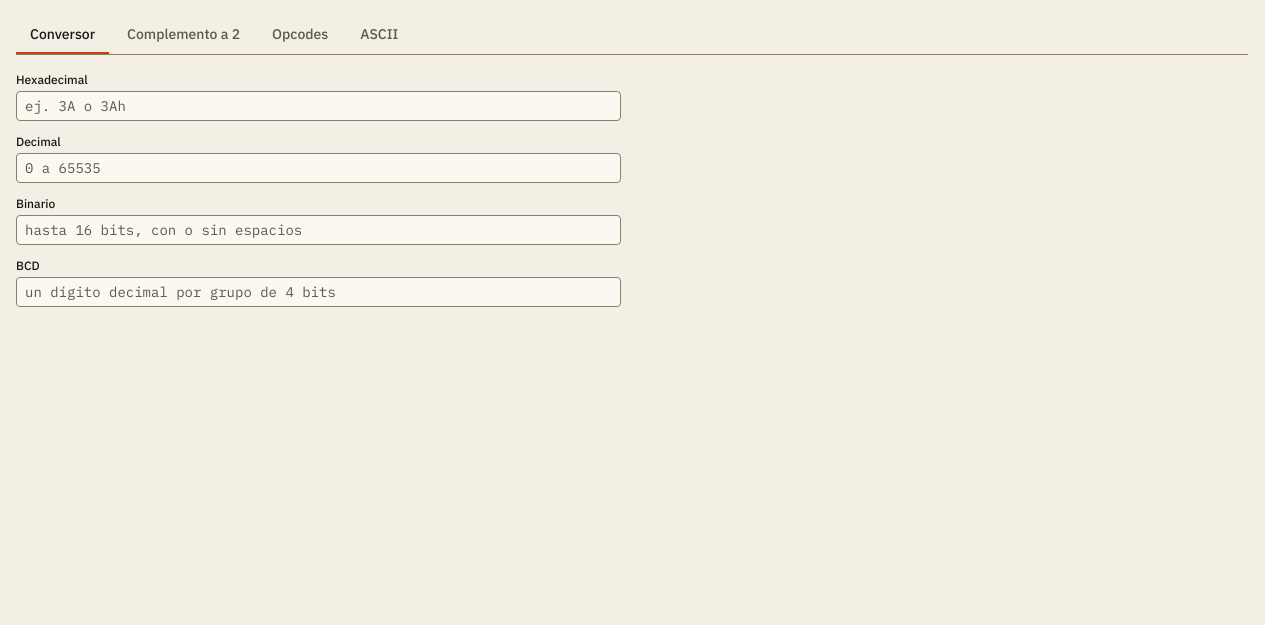
Test: ASCII › caracteres, controles y etiqueta fuera de la cátedra
Click the tab "ASCII" at (379, 35), box [346, 16, 412, 54]
(page scrolled)
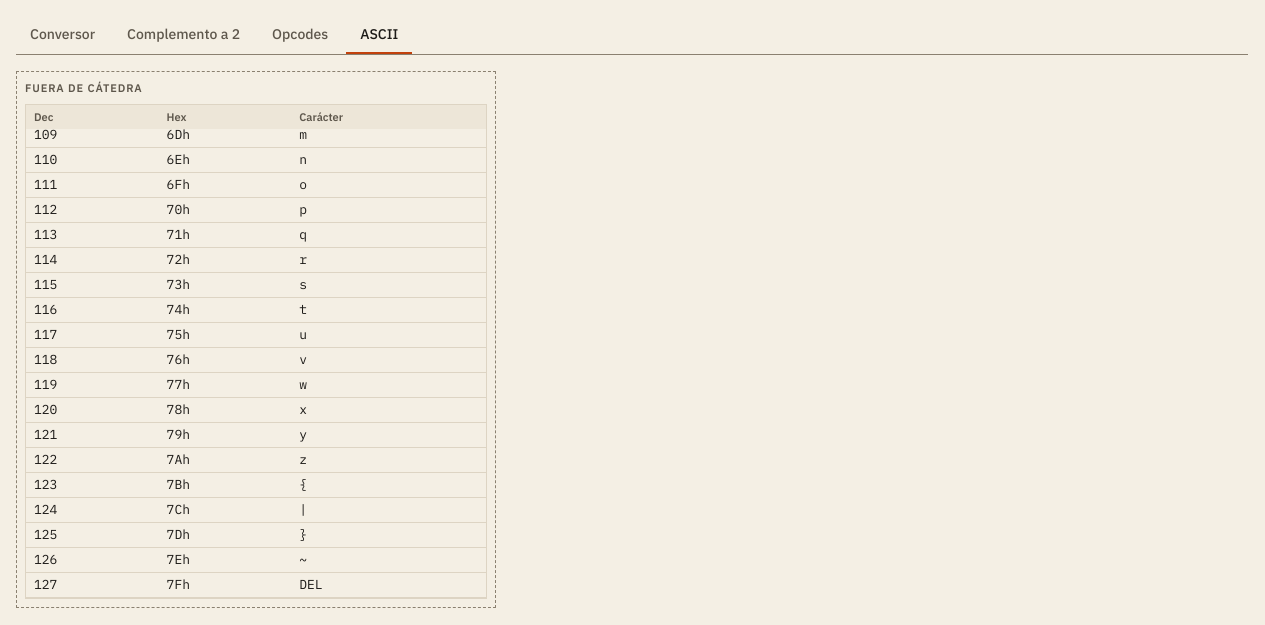
expect the text "FUERA DE CÁTEDRA" is shown: met, box [25, 80, 143, 96]
expect the text "DEL" is shown: met, box [291, 572, 486, 598]
